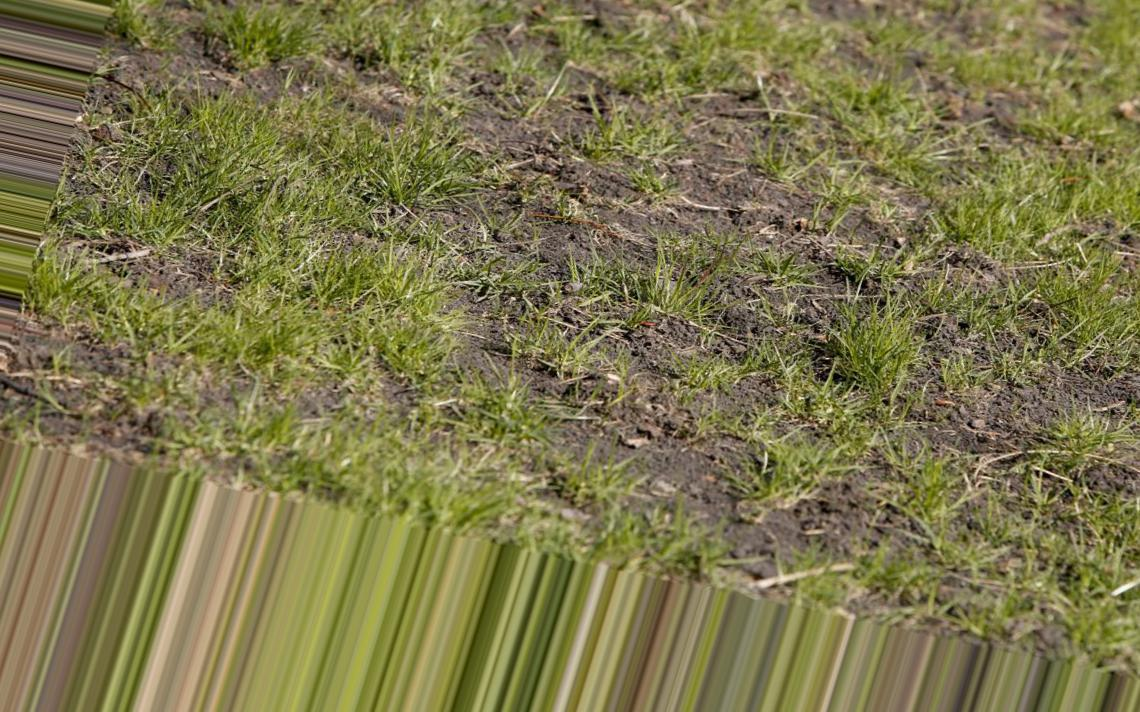patch: (667, 339, 849, 497), (456, 318, 620, 464), (661, 131, 774, 273), (497, 161, 625, 273), (179, 209, 289, 328), (247, 67, 399, 140), (1042, 347, 1140, 446), (878, 182, 960, 287), (920, 339, 1001, 429), (89, 307, 158, 389), (933, 92, 1006, 161)
